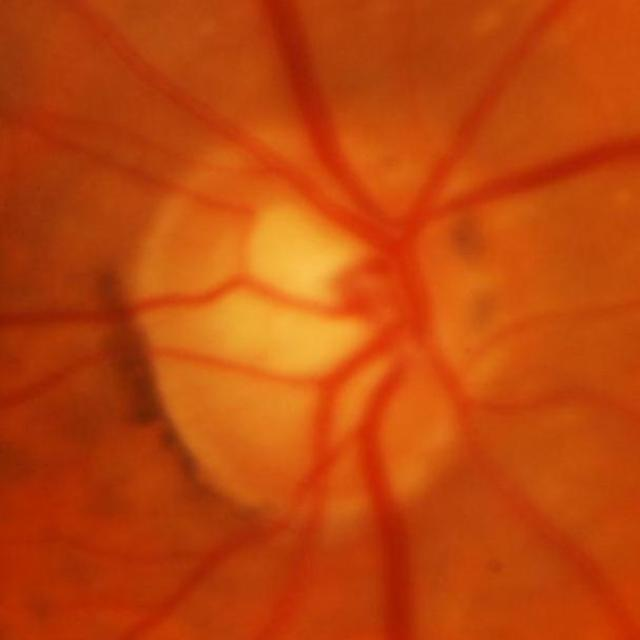OC: (212, 217, 412, 378)
OD: (131, 120, 506, 530)
